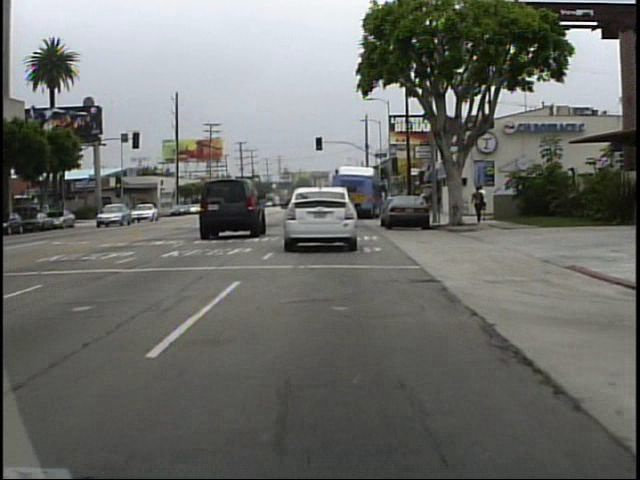person: (471, 183, 488, 225), (479, 182, 490, 222)
